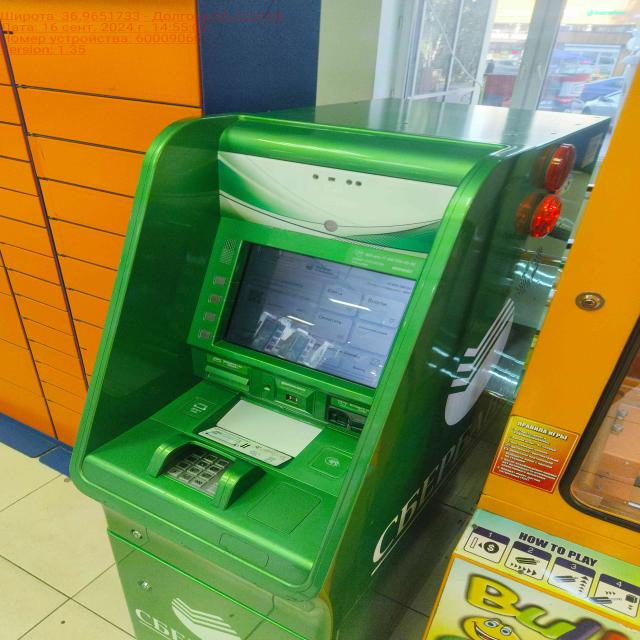bank: (66, 93, 616, 640)
